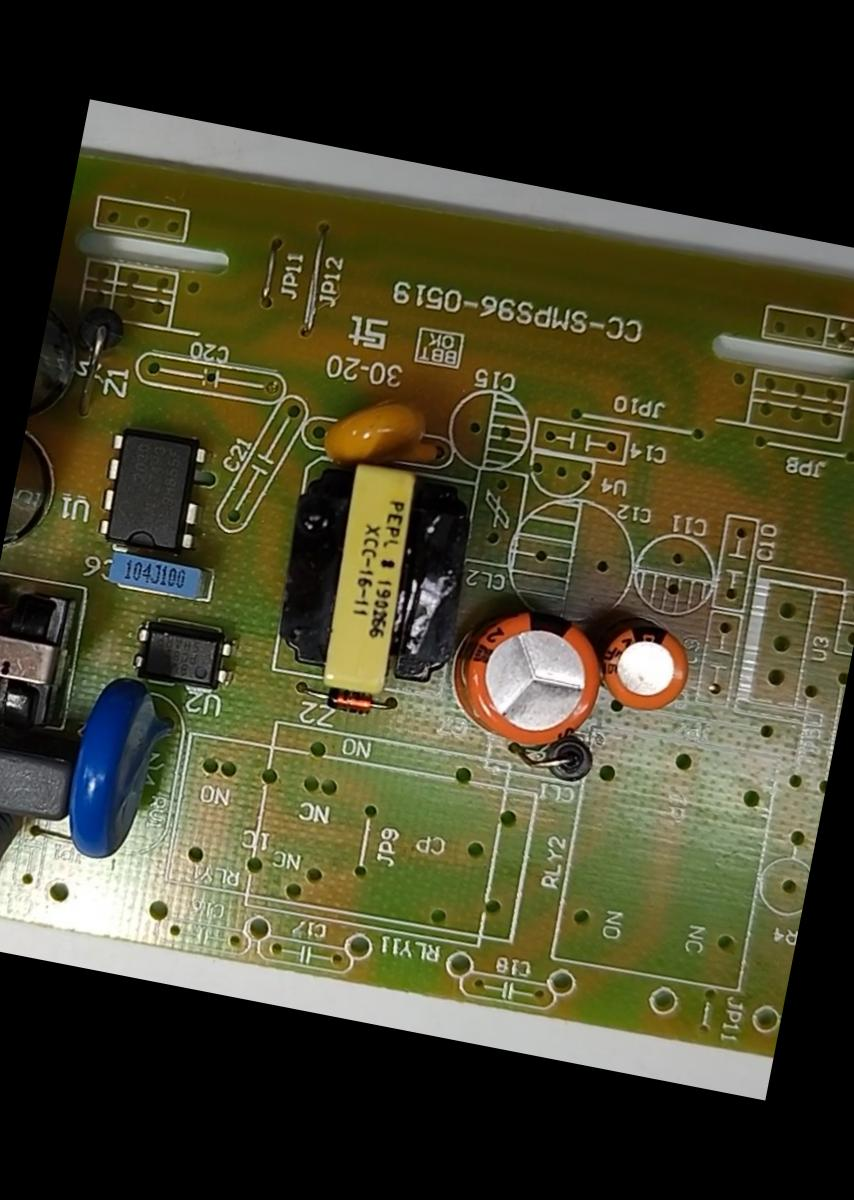Cap1: (434, 574, 619, 774)
Cap2: (570, 597, 708, 729)
Cap3: (0, 412, 84, 579)
Cap4: (27, 270, 96, 426)
MOSFET: (78, 404, 221, 582)
Mov: (42, 654, 202, 888)
Resistor: (0, 798, 41, 914)
Transformer: (257, 436, 488, 734), (0, 572, 97, 758)
